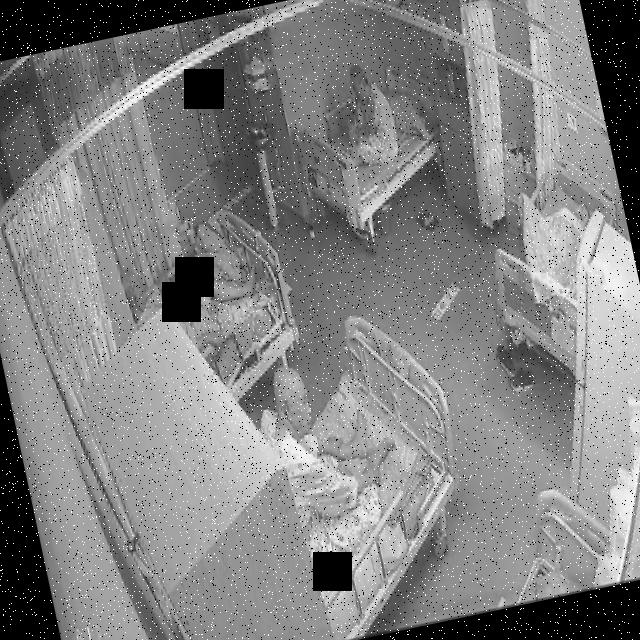bed: (236, 304, 492, 640), (466, 147, 640, 386), (140, 209, 307, 415), (286, 55, 458, 239)
patient: (246, 347, 418, 579), (117, 236, 286, 377), (332, 59, 403, 174)
sit: (245, 346, 419, 580), (118, 236, 286, 374), (333, 60, 405, 174)
